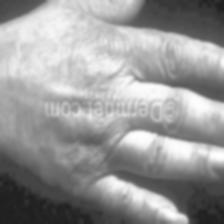Unclassified: (58, 138, 94, 160), (96, 33, 126, 57), (138, 204, 152, 220)
